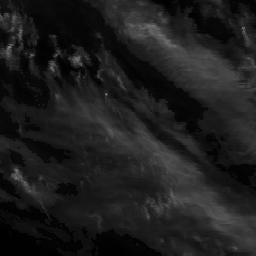Target: (103, 91, 109, 96)
